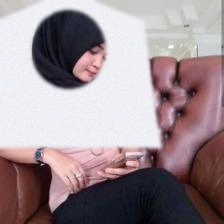Mukena: (0, 0, 161, 148)
